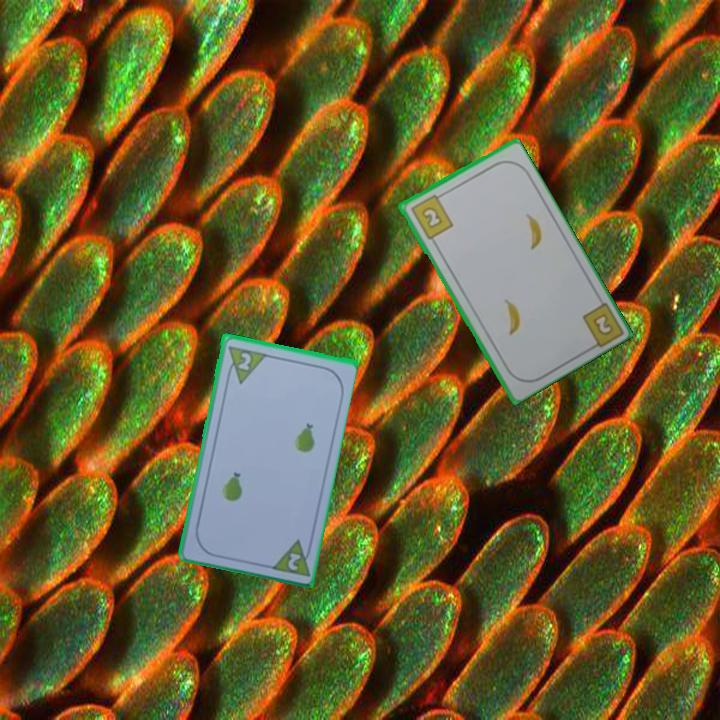2b: (407, 190, 456, 242), (592, 312, 614, 336)
2p: (222, 342, 267, 386), (284, 549, 304, 573)
